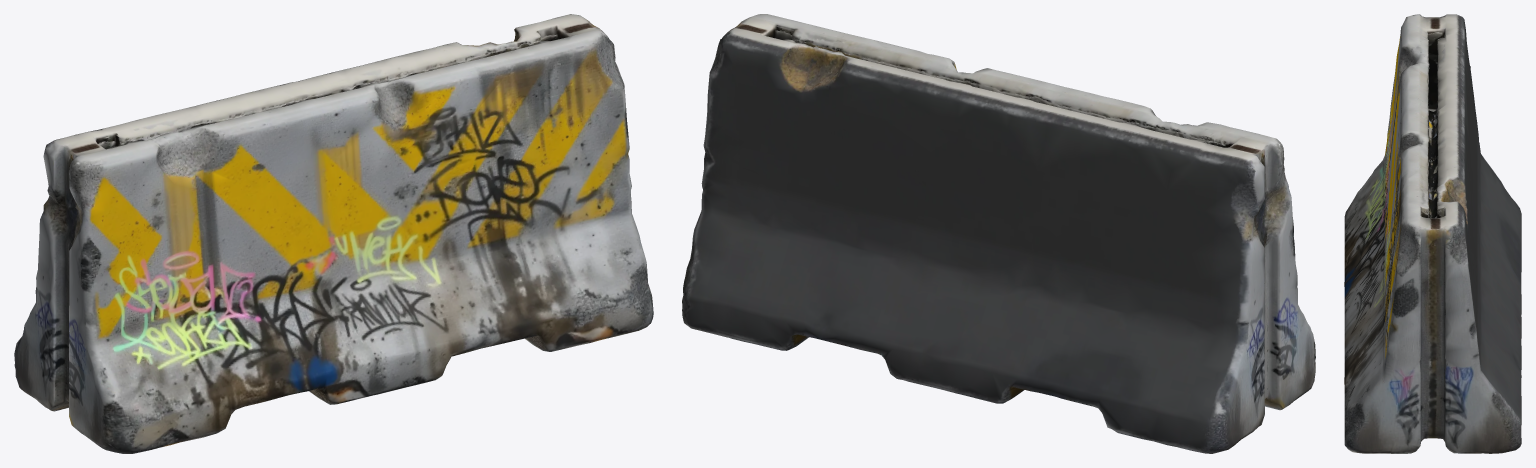
Rendered from wall-expression.glb.
3 views of the same model, side by side, from view 1: azimuth 30°, elevation 25°; view 2: azimuth 150°, elevation 25°; view 3: azimuth 270°, elevation 25° (orthographic). The views are drawn at different scales.
Parts seen in each view (by area): view 1: Mesh1.0; view 2: Mesh1.0; view 3: Mesh1.0.
Boxes of the visible parts, x1,y1,x2,y2 form: Mesh1.0: (14,14,653,453); Mesh1.0: (682,14,1315,453); Mesh1.0: (1344,14,1521,453).
Size of the model in its own units: 1.9 by 0.8999 by 0.6429.
1 material, 1 textured.
